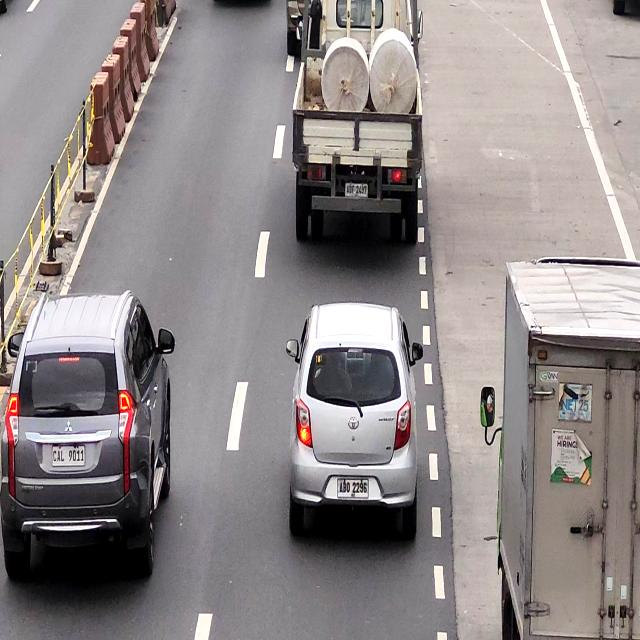Car: (9, 295, 168, 562), (292, 302, 421, 544)
License-Plate: (50, 442, 87, 470), (336, 475, 368, 498), (344, 184, 368, 196)
Truck: (499, 259, 639, 640), (296, 0, 420, 239)
